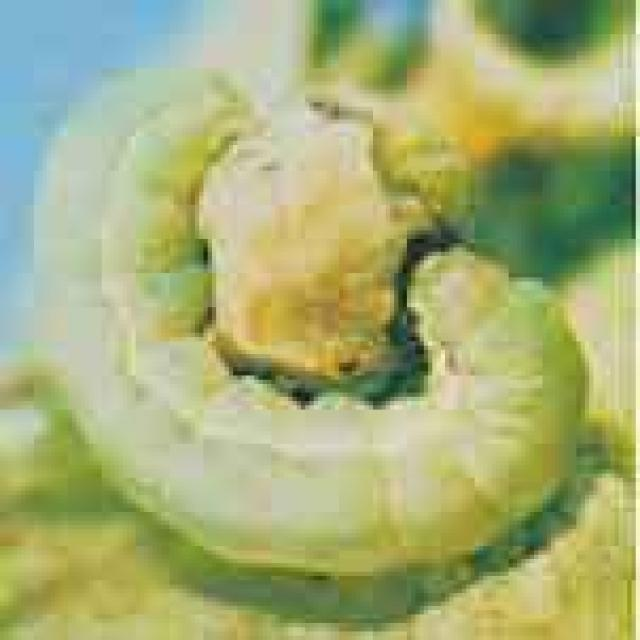BeetArmyWorm-Larva-: (24, 57, 612, 600)
